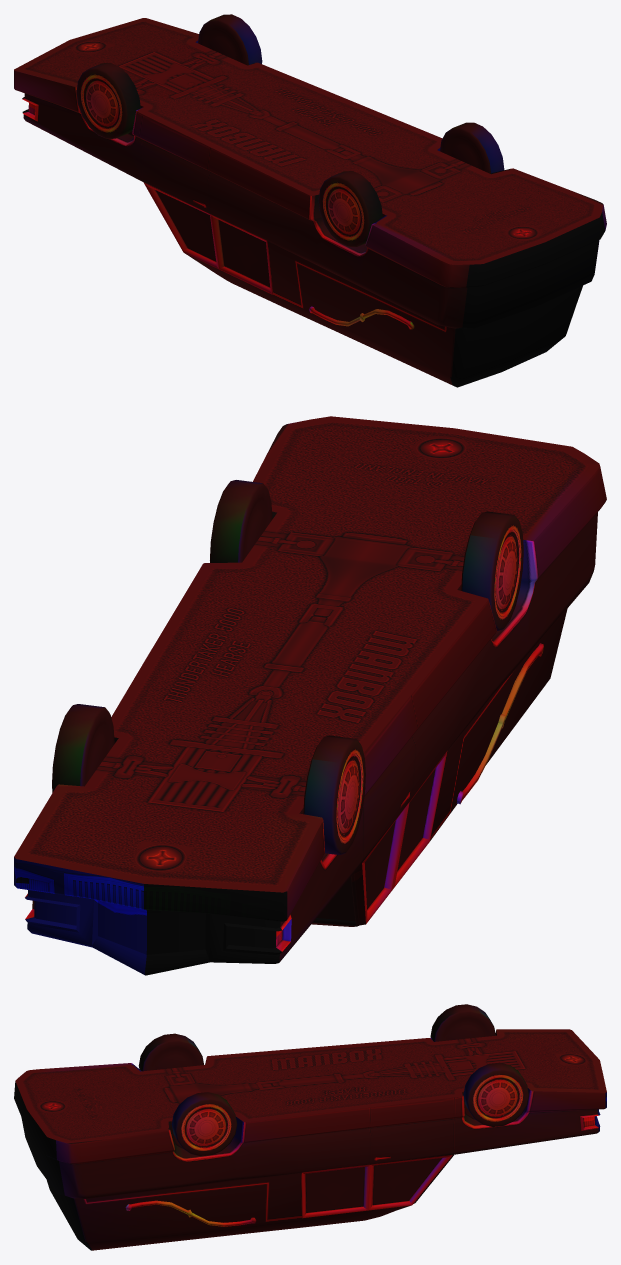
The model's file is Hearse.glb.
The picture shows the model from 3 angles, top to bottom: view 1: azimuth 30°, elevation 25°; view 2: azimuth 150°, elevation 25°; view 3: azimuth 270°, elevation 25°; orthographic projection. The views are drawn at different scales.
Parts seen in each view (by area): view 1: Hearse.001; view 2: Hearse.001; view 3: Hearse.001.
Part boxes in pixels (<box>): Hearse.001: <box>14,14,606,387</box>; Hearse.001: <box>14,416,606,975</box>; Hearse.001: <box>14,1004,606,1250</box>.
Size of the model in its own units: 3.23 by 1.87 by 6.51.
1 material, 1 textured.
